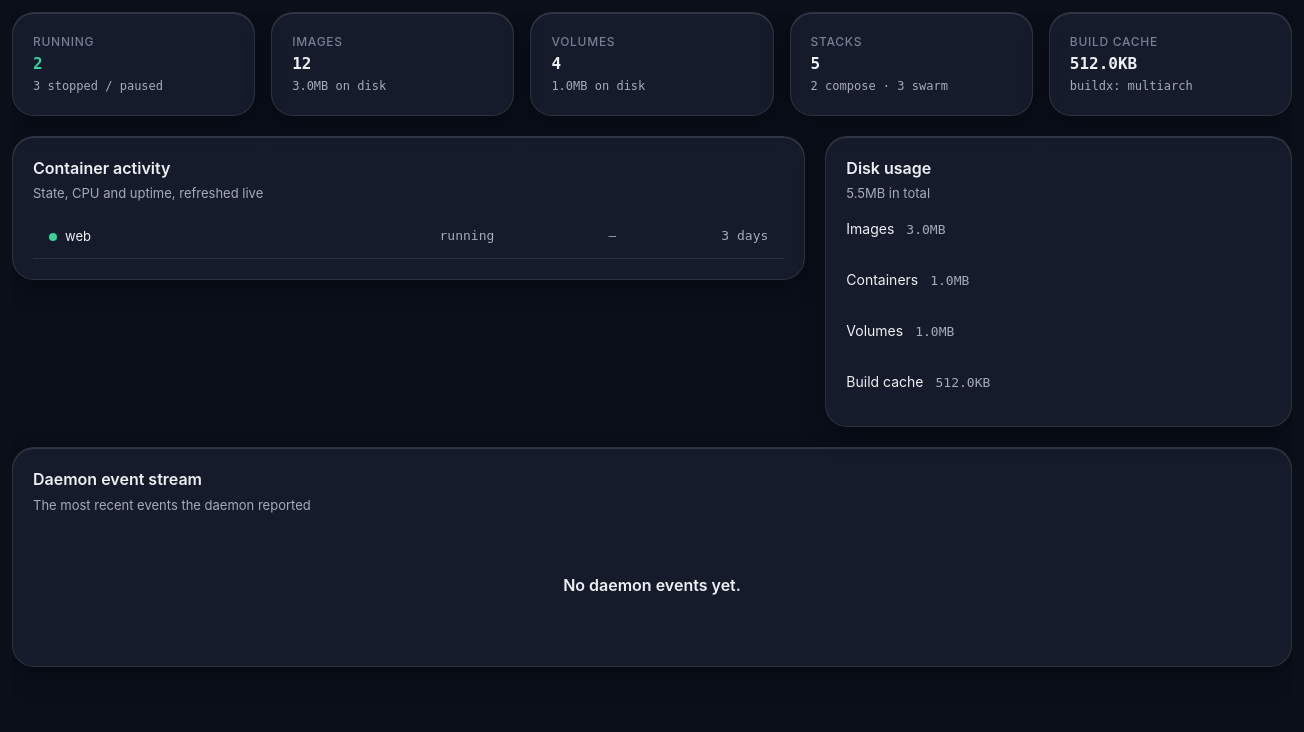
Scenario: DashboardScreen — where a tile or a row leads (plan-docker_management_app/REQ-18) › activating a container-activity row navigates to the Containers screen
Click the element with class "ui-data-table__row" at (409,237), box x1=33 y1=215 x2=784 y2=259
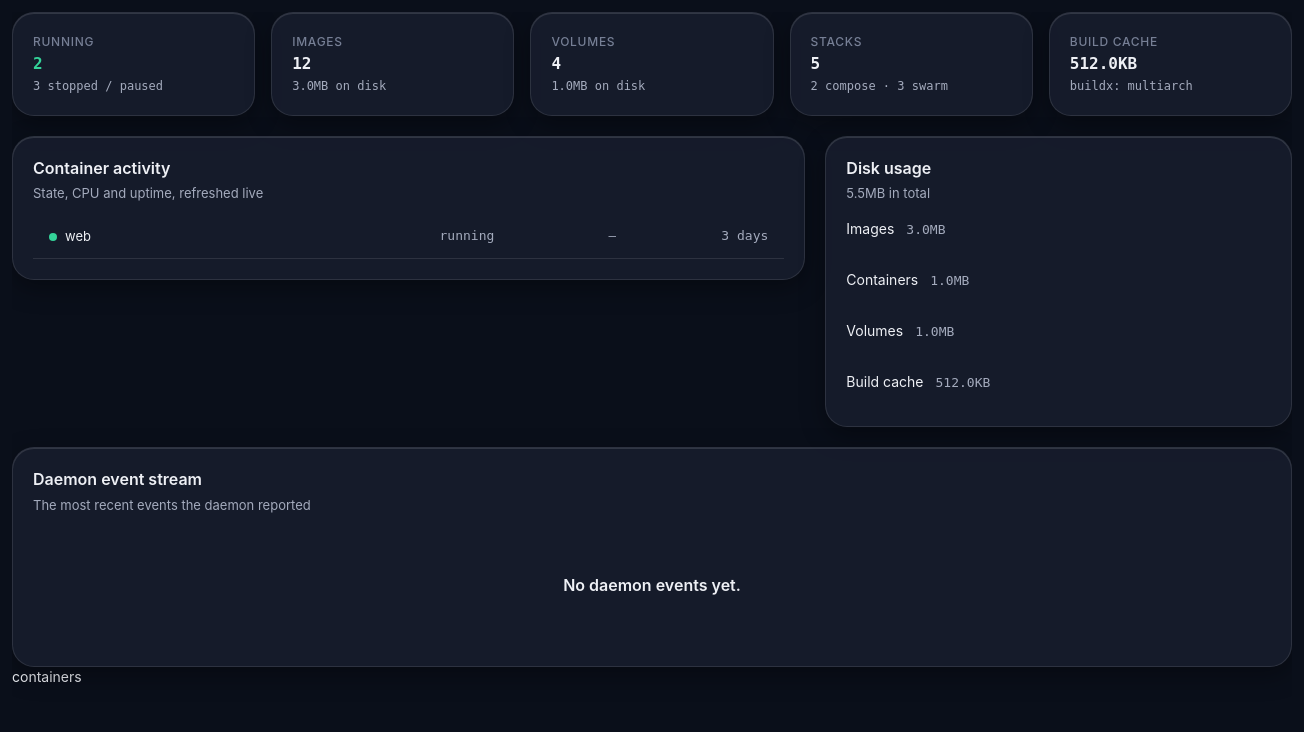
Expected: the text with test id "navigation" reads "containers", x1=12 y1=668 x2=82 y2=685
